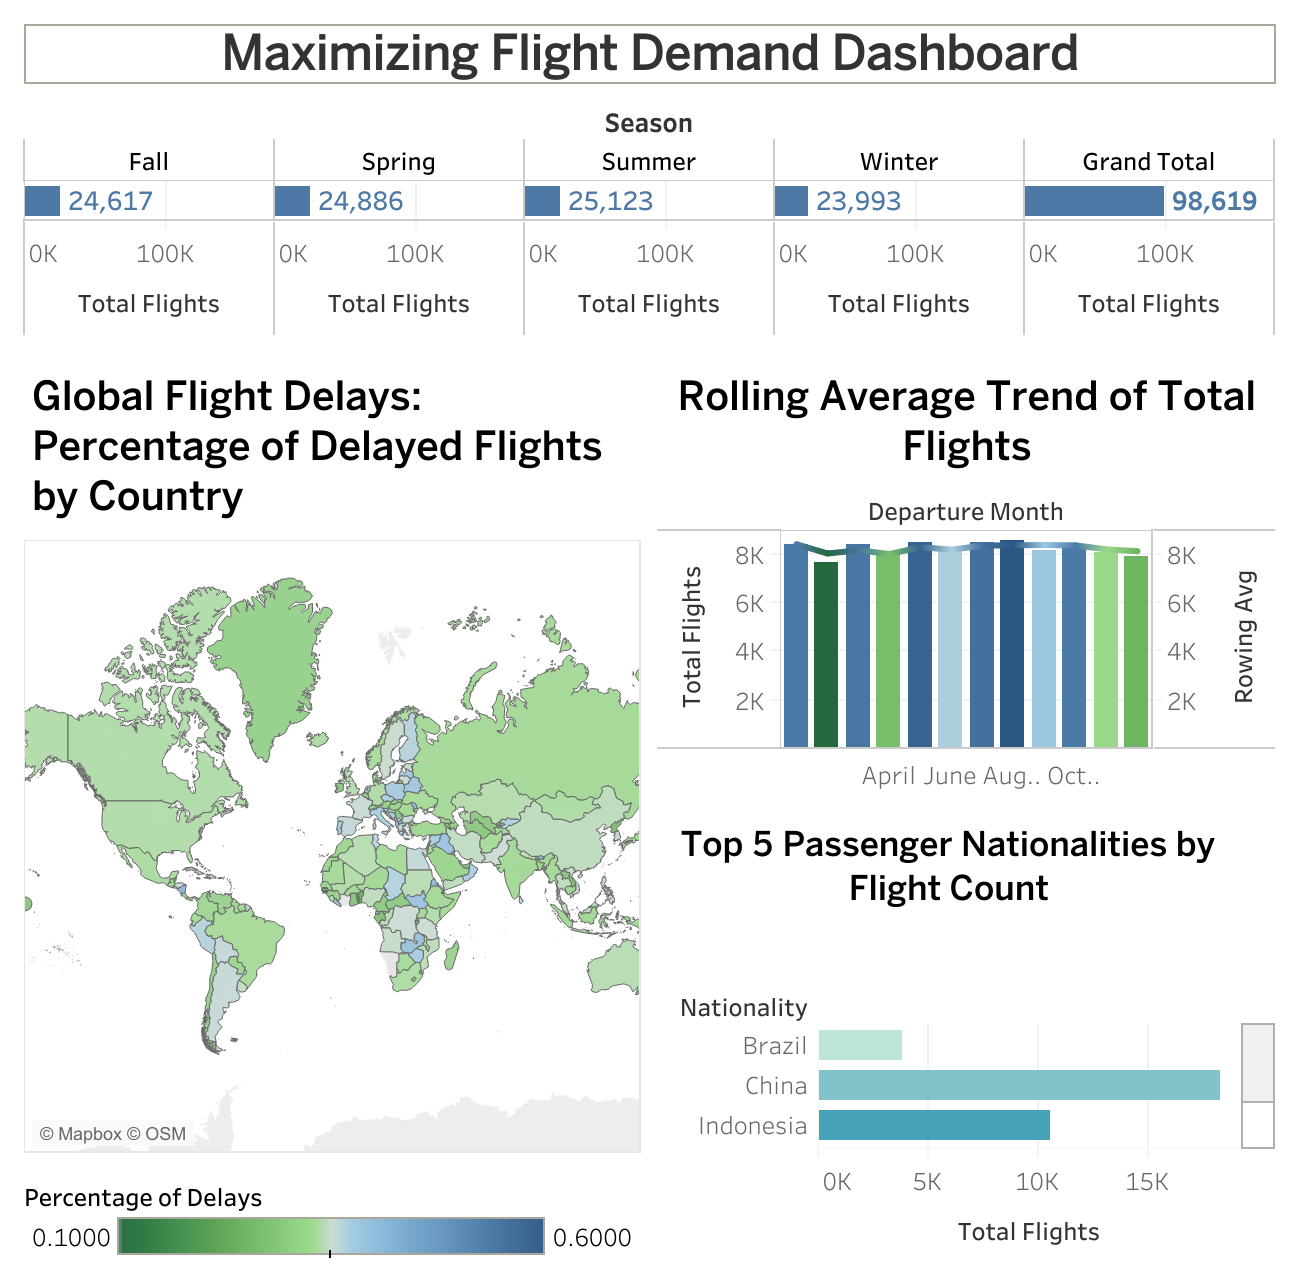

Layout of this report page (visuals, bound fields, positions):
{"tool":"tableau","page":{"name":"Dashboard 1","canvas":[650,860],"ordinal":0},"visuals":[{"type":"title","box":[8,9.5,634,44]},{"type":"worksheet","title":"Sheet 3","mark":"Bar","cols":["Season","Calculation_2931350807798775810"],"box":[8,53.5,634,147.5]},{"type":"worksheet","title":"Sheet 2","mark":"Automatic","box":[8,201,317,576.2]},{"type":"worksheet","title":"Sheet 5","mark":"Bar","rows":["Calculation_2931350807798775810","Calculation_4070268932695502848"],"cols":["Calculation_3760927933254623232"],"box":[325,201,317,333.1]},{"type":"worksheet","title":"Sheet 4","mark":"Bar","rows":["Nationality"],"cols":["Calculation_2931350807798775810"],"box":[325,534.1,317,316.4]},{"type":"legend","title":"Sheet 2","param":"[federated.1q05epq11mrovs1102hka0iepa6i].[usr:Calculation_3211348040959586304:qk","box":[8,777.2,317,73.3]}]}

Visuals, with their boxes on the page's 650x860 design canvas (x1, y1, x2, y2). These are canvas units, not pixel positions in the 1298x1284 screenshot, which may show the page scaled, cropped or inside an application window:
title: 8/10/642/54
"Sheet 3" worksheet (Bar marks): 8/54/642/201
"Sheet 2" worksheet: 8/201/325/777
"Sheet 5" worksheet (Bar marks): 325/201/642/534
"Sheet 4" worksheet (Bar marks): 325/534/642/850
"Sheet 2" legend: 8/777/325/850
